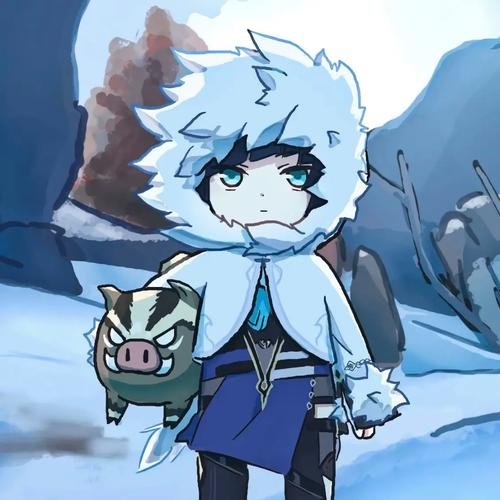夜兰: (89, 39, 400, 500)
